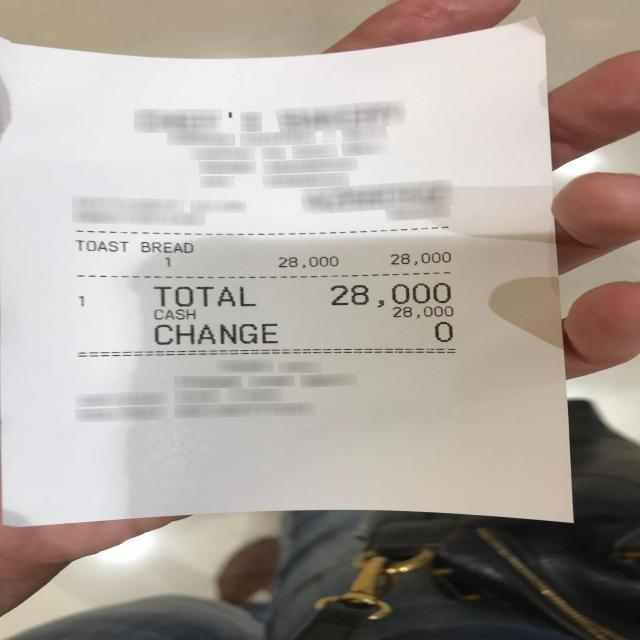kertas: (0, 20, 573, 536)
